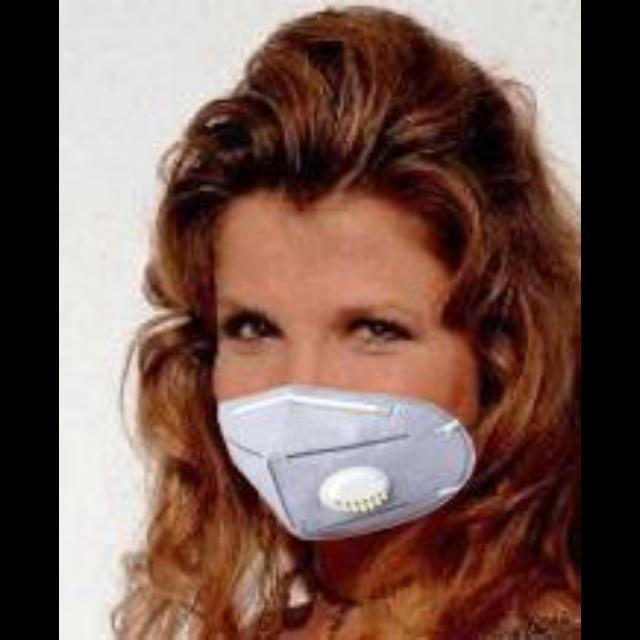suspicion: (155, 120, 577, 598)
